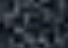eight: (36, 19, 41, 27)
three: (18, 21, 23, 28), (30, 20, 35, 27)
two: (24, 20, 29, 28), (42, 19, 47, 26)
